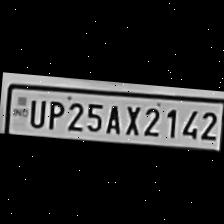1: (160, 104, 180, 138)
2: (138, 102, 162, 137), (64, 97, 86, 133), (196, 106, 218, 141)
4: (177, 104, 200, 139)
5: (82, 98, 105, 133)
A: (102, 100, 124, 134)
P: (43, 96, 64, 130)
U: (26, 95, 46, 128)
X: (120, 100, 142, 136)
